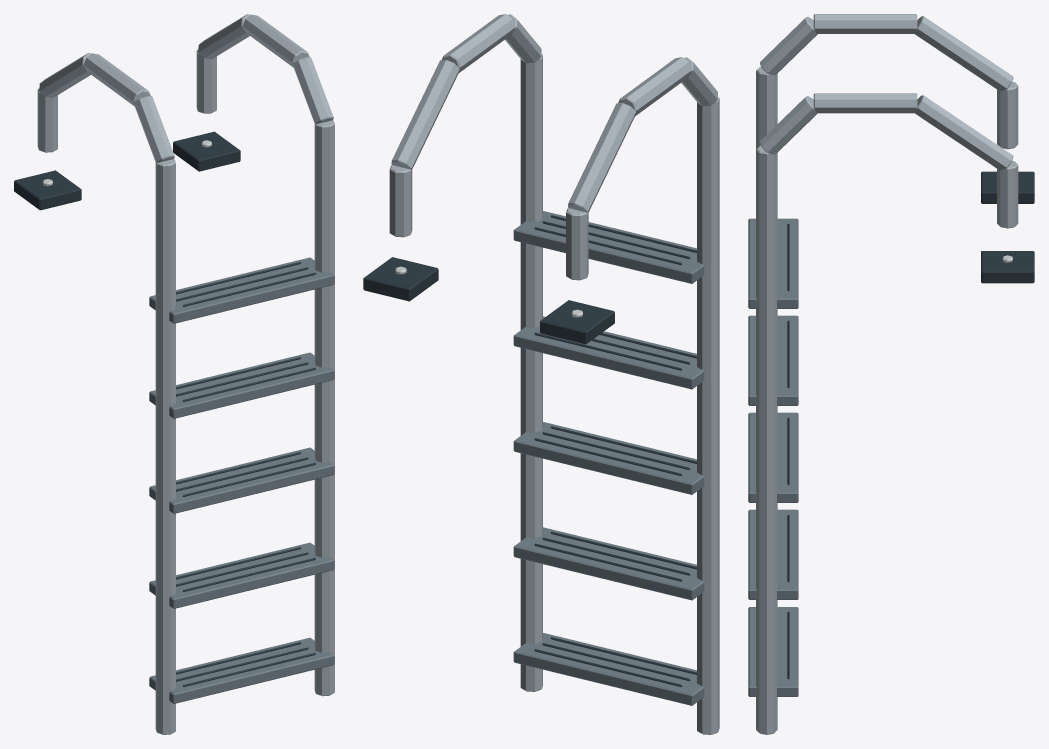
File: b20_dock_swim_ladder.glb
3 views of the same model, side by side, from view 1: azimuth 30°, elevation 25°; view 2: azimuth 150°, elevation 25°; view 3: azimuth 270°, elevation 25° (orthographic). The views are drawn at different scales.
Visible parts, largest first — view 1: b20_dock_swim_ladder; view 2: b20_dock_swim_ladder; view 3: b20_dock_swim_ladder.
Part boxes in pixels (box(x1,y1,x2,y2)): b20_dock_swim_ladder: box(14, 14, 334, 734); b20_dock_swim_ladder: box(363, 14, 719, 734); b20_dock_swim_ladder: box(748, 14, 1034, 734).
Bounding box in the file's own units: 0.71 × 2.1 × 0.855.
